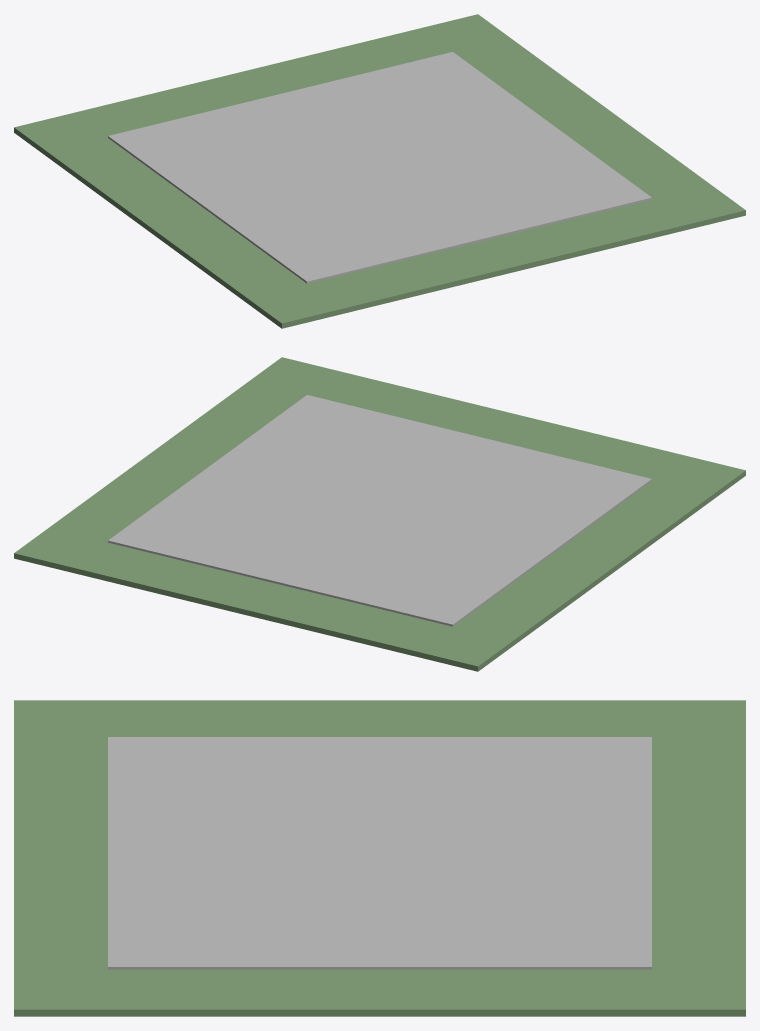
The model's file is rug.fbx.
3 views of the same model, one above another, from view 1: azimuth 30°, elevation 25°; view 2: azimuth 150°, elevation 25°; view 3: azimuth 270°, elevation 25° (orthographic). The views are drawn at different scales.
Parts seen in each view (by area): view 1: Cube.001, Cube; view 2: Cube.001, Cube; view 3: Cube.001, Cube.
Part boxes in pixels (x1,y1,x2,y2): Cube.001: (108,52,651,283); Cube: (14,14,745,328); Cube.001: (108,395,651,626); Cube: (14,357,745,671); Cube.001: (108,737,651,969); Cube: (14,700,745,1016).
Bounding box in the file's own units: 1353 × 20.56 × 1353.
